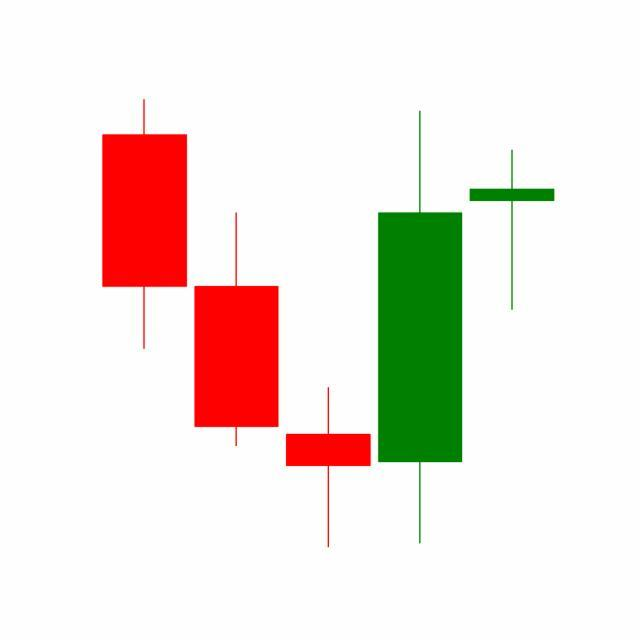Morning Star: (190, 106, 467, 548)
